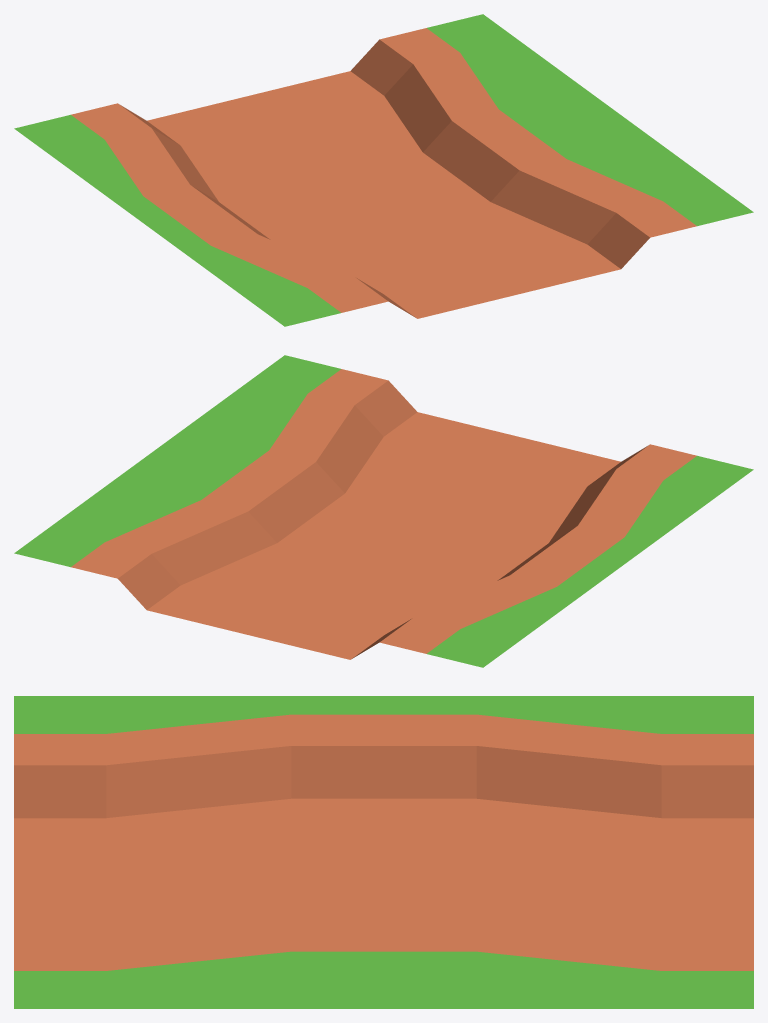
The model's file is ground_pathStraight.glb.
3 views of the same model, one above another, from view 1: azimuth 30°, elevation 25°; view 2: azimuth 150°, elevation 25°; view 3: azimuth 270°, elevation 25° (orthographic). The views are drawn at different scales.
Parts seen in each view (by area): view 1: ground_pathStraight; view 2: ground_pathStraight; view 3: ground_pathStraight.
Boxes of the visible parts, bbox=[...] form: ground_pathStraight: bbox=[14, 14, 753, 326]; ground_pathStraight: bbox=[14, 355, 753, 667]; ground_pathStraight: bbox=[14, 696, 753, 1008].
Size of the model in its own units: 1 by 0.05 by 1.
